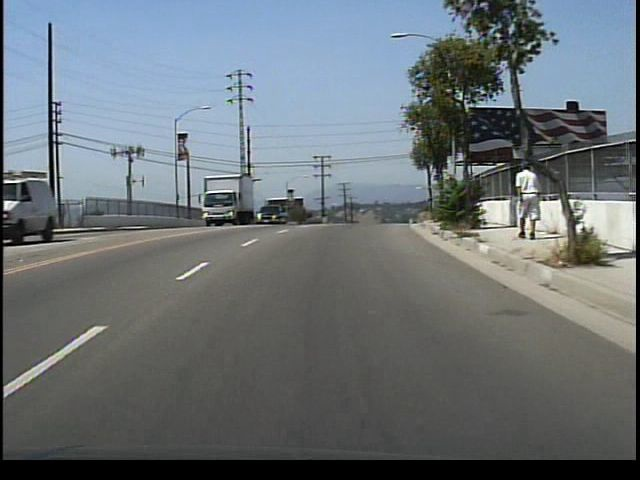person: (513, 167, 544, 244)
